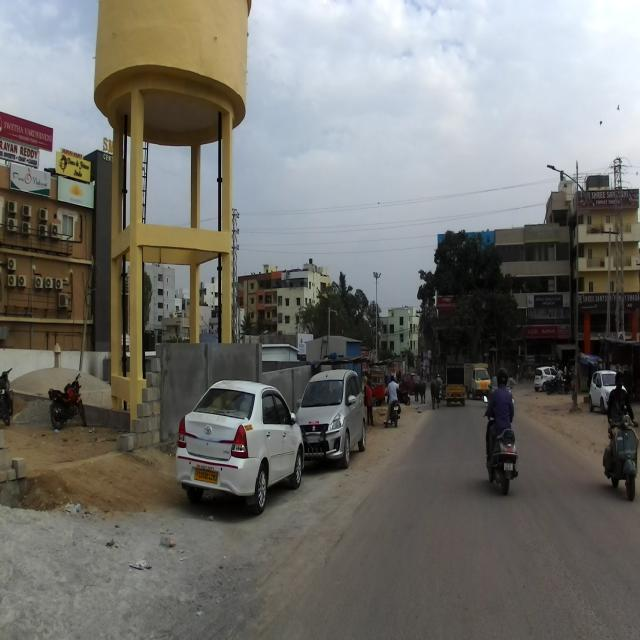car ahead at: (176, 374, 306, 520), (305, 364, 364, 463)
motorcycle ahead at: (600, 410, 640, 502), (480, 430, 523, 500), (48, 372, 86, 432)
